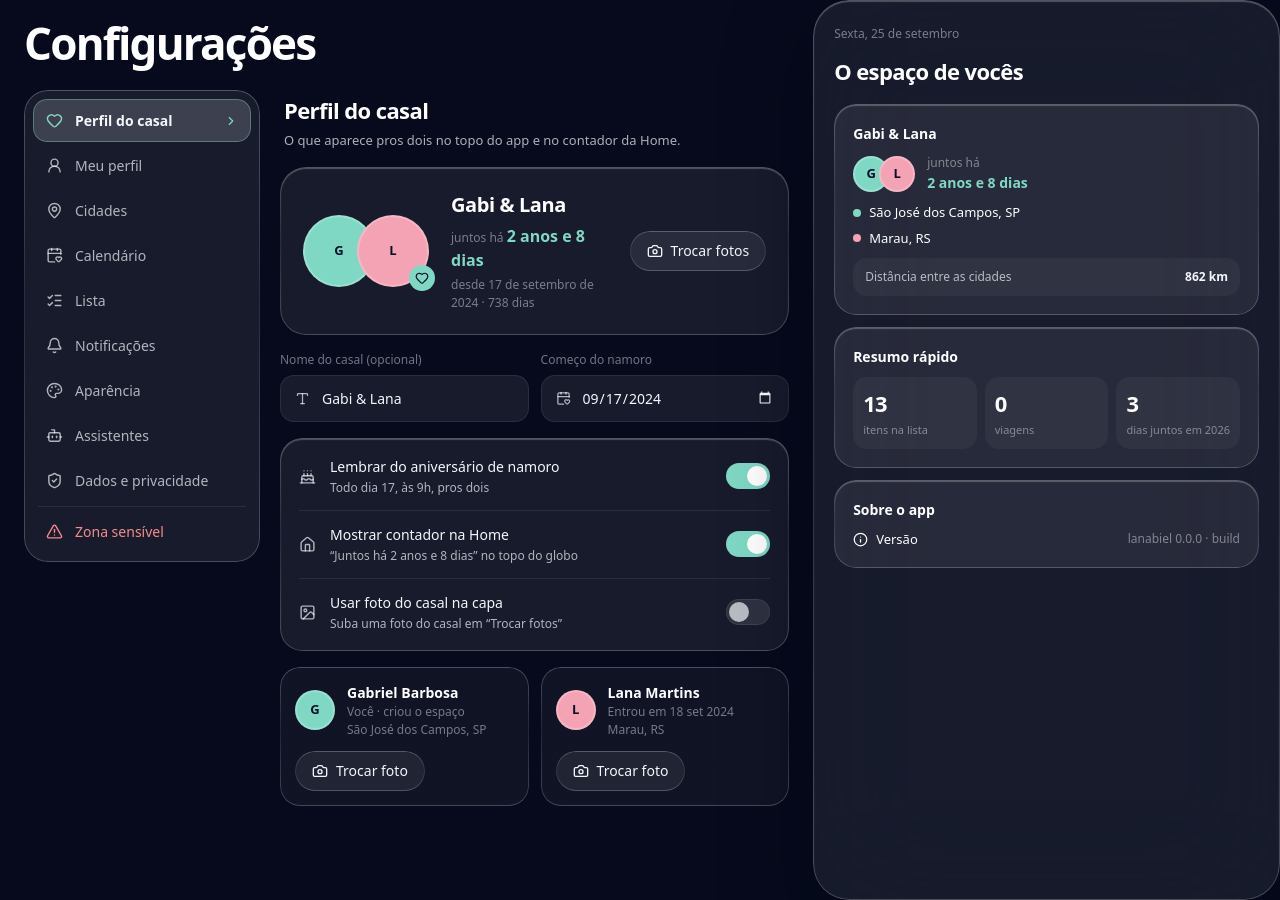
Scenario: A15 — escrita: patch da coluna certa, e volta atrás no erro › Perfil do casal: data futura não sai do cliente
Type "2027-01-01" into the date field labelled "Começo do namoro" at x=677, y=398, box [581,387,774,410]
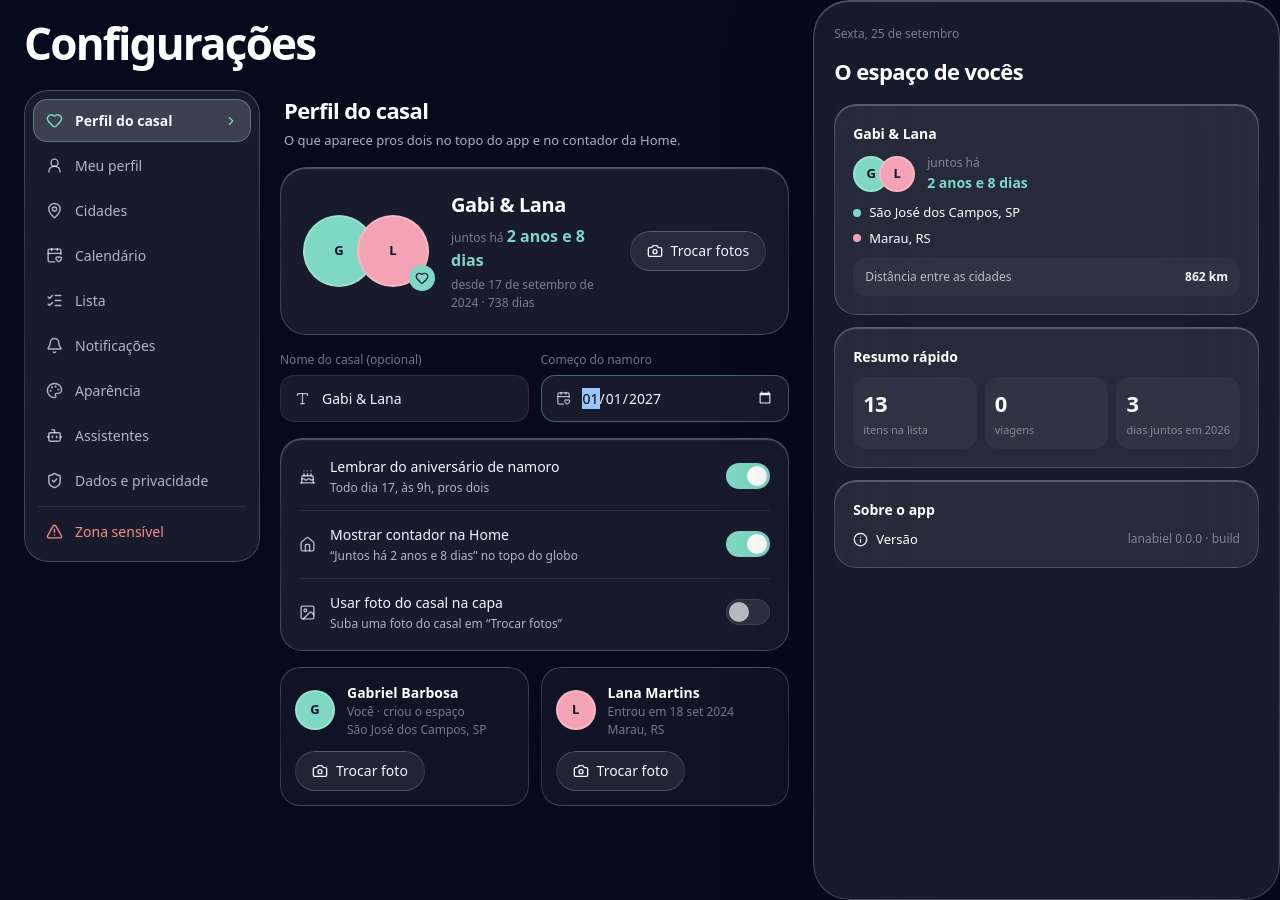
Press Tab
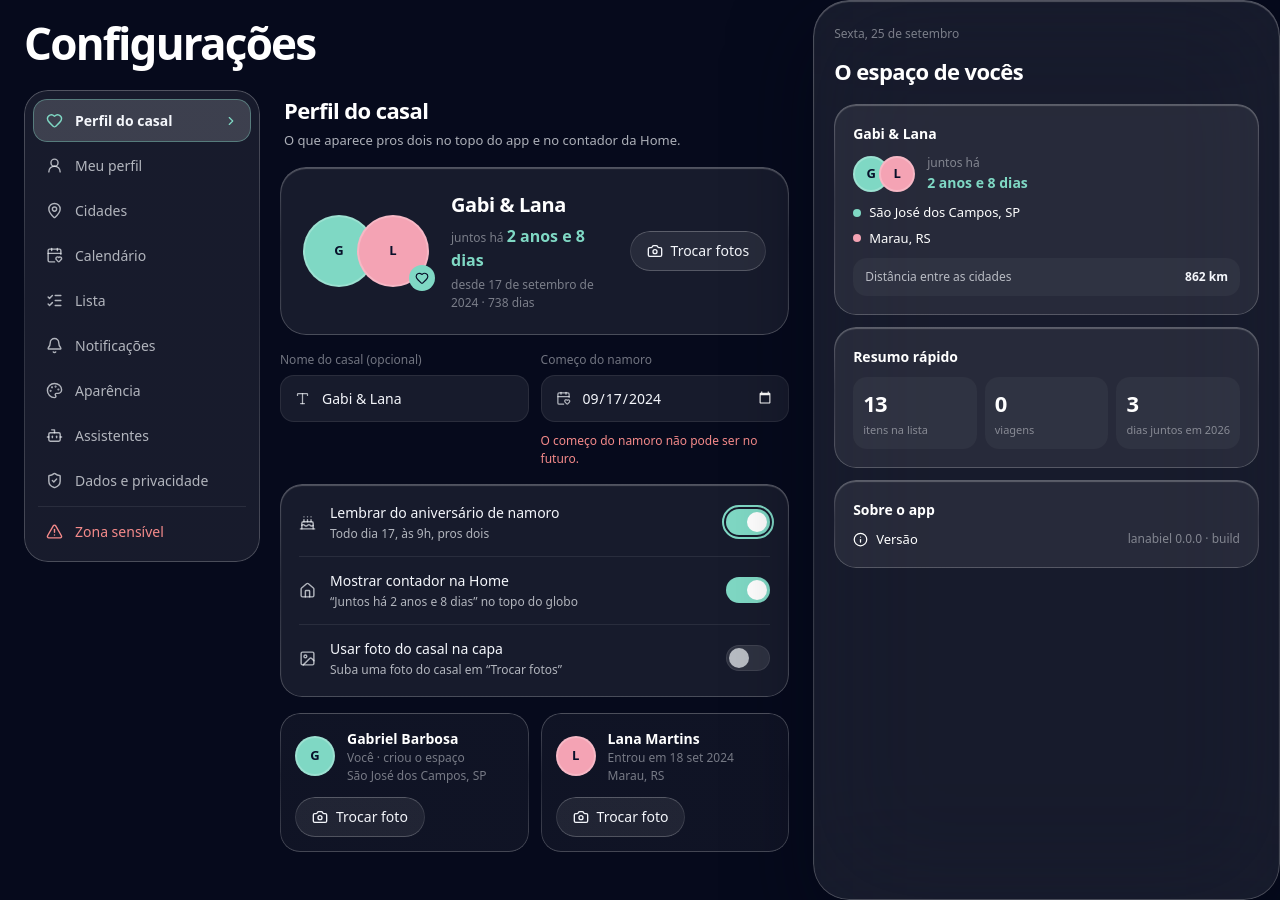
Result: the text "O começo do namoro não pode ser no futuro." is shown at [541,432,789,468]
